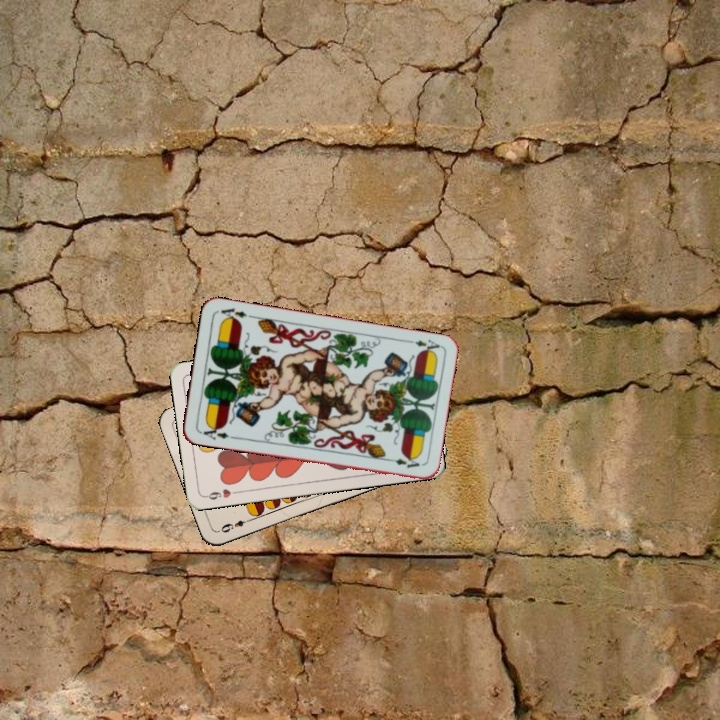E9: (215, 515, 254, 535)
EA: (402, 336, 442, 356), (196, 421, 231, 442)
H9: (201, 485, 242, 502)
